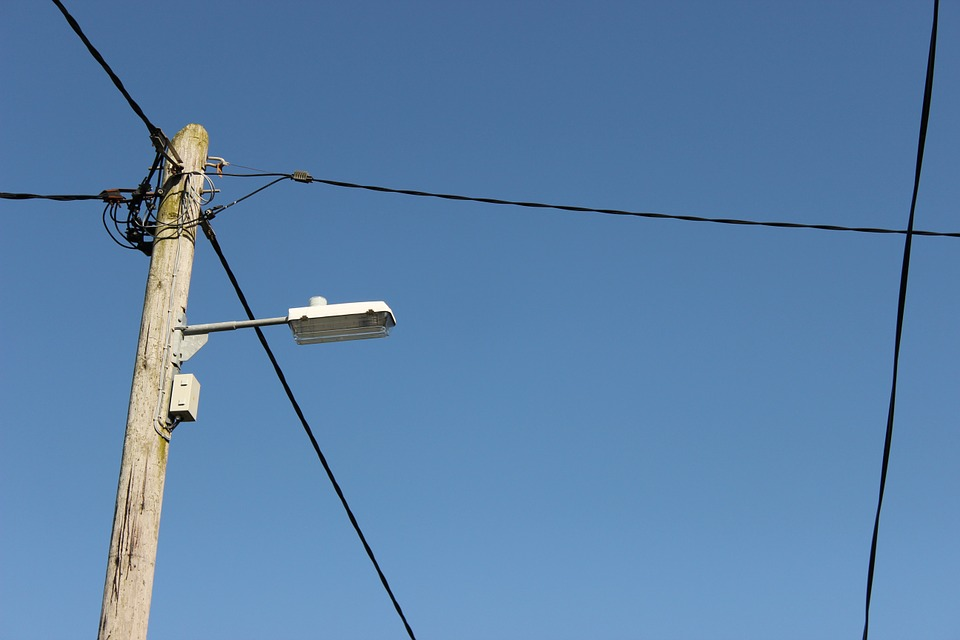utility_pole: (91, 106, 411, 469)
